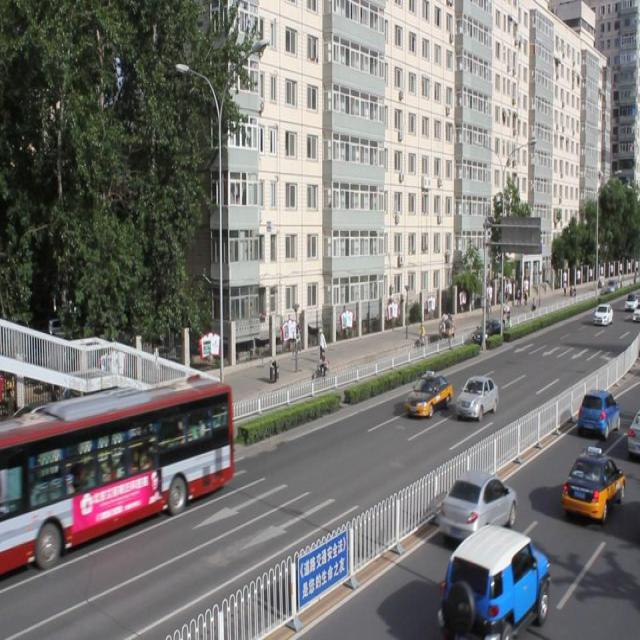car: (440, 525, 547, 640), (439, 469, 515, 544), (560, 447, 624, 520), (404, 373, 451, 420), (575, 388, 618, 436), (455, 375, 498, 417), (471, 318, 502, 345), (626, 408, 640, 456)
van: (1, 380, 230, 569)
